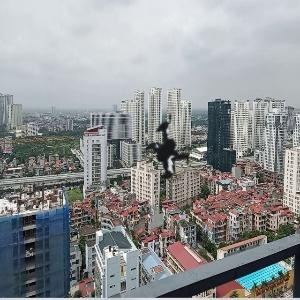drone: (105, 62, 271, 228)
